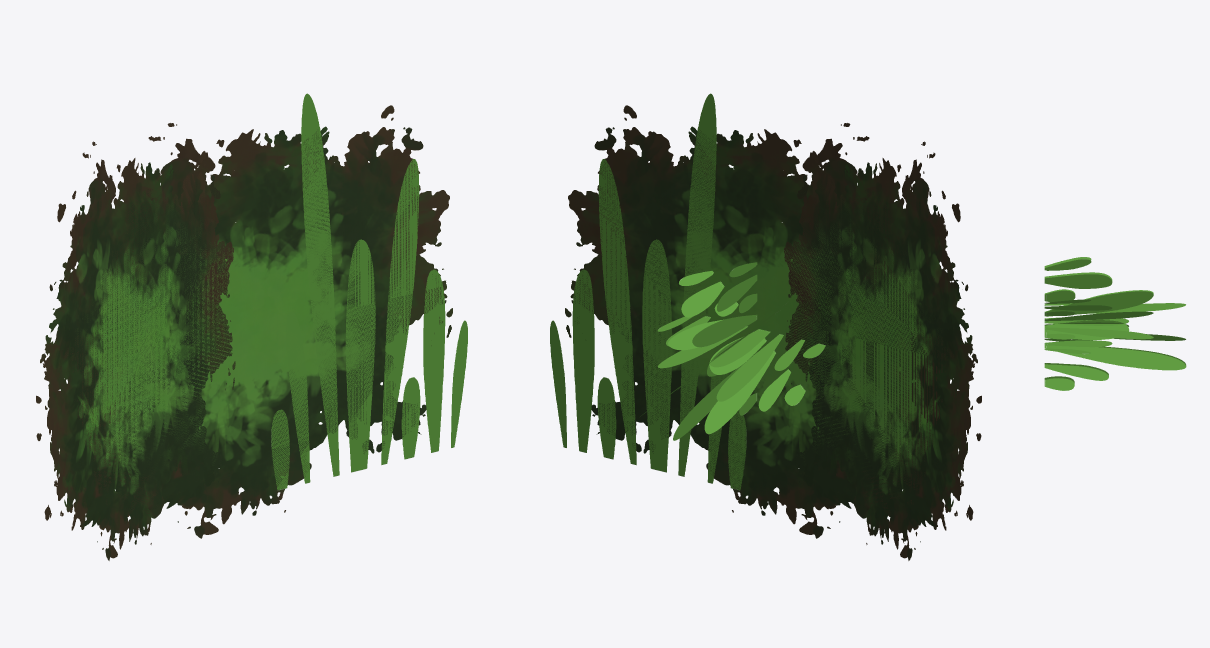
Rendered from GrassProOne2.fbx.
3 renders of one model, left to right at view 1: azimuth 30°, elevation 25°; view 2: azimuth 150°, elevation 25°; view 3: azimuth 270°, elevation 25°, orthographic. The views are drawn at different scales.
Visible parts, largest first — view 1: Plane.001; view 2: Plane.001; view 3: Plane.001.
Boxes of the visible parts, x1,y1,x2,y2 form: Plane.001: [36, 93, 467, 560]; Plane.001: [550, 93, 981, 560]; Plane.001: [1044, 257, 1186, 390].
Size of the model in its own units: 569 by 569 by 200.
